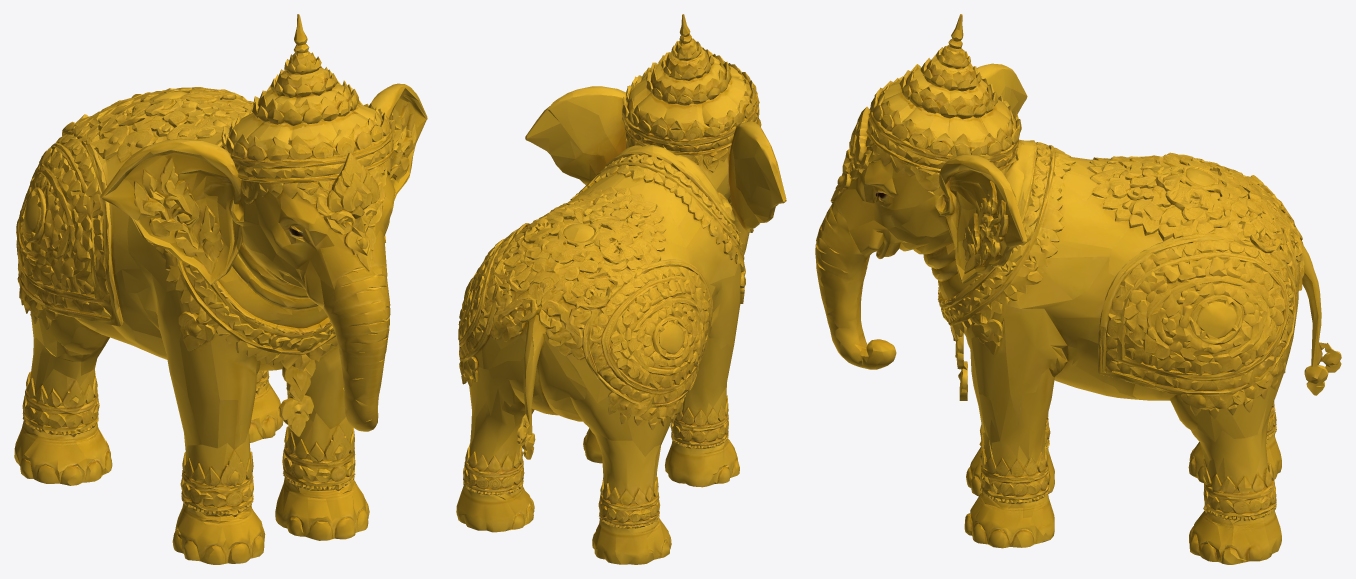
The model's file is rahu.glb.
3 renders of one model, left to right at view 1: azimuth 30°, elevation 25°; view 2: azimuth 150°, elevation 25°; view 3: azimuth 270°, elevation 25°, orthographic. The views are drawn at different scales.
Visible parts, largest first — view 1: Mesh_0; view 2: Mesh_0; view 3: Mesh_0.
Part boxes in pixels (x1,y1,x2,y2): Mesh_0: (14,14,427,564); Mesh_0: (456,14,786,564); Mesh_0: (815,14,1341,564).
Bounding box in the file's own units: 1.2 × 1.9 × 1.84.
Materials: 1 (1 with a texture image).
